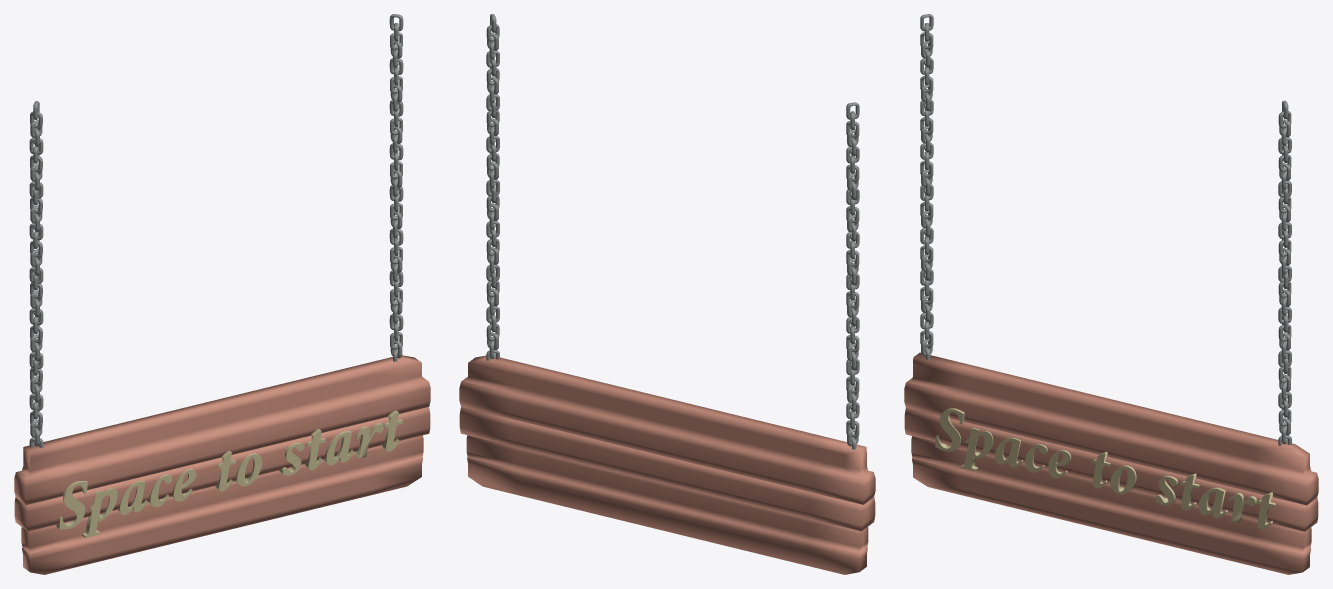
The model's file is StartSigne.fbx.
3 views of the same model, side by side, from view 1: azimuth 30°, elevation 25°; view 2: azimuth 150°, elevation 25°; view 3: azimuth 330°, elevation 25° (orthographic).
Visible parts, largest first — view 1: Cube.025, Cube.018; view 2: Cube.025, Cube.018; view 3: Cube.025, Cube.018.
Boxes of the visible parts, left/top/right/bottom form: Cube.025: left=14, top=355, right=430, bottom=574; Cube.018: left=29, top=14, right=403, bottom=448; Cube.025: left=459, top=355, right=875, bottom=574; Cube.018: left=486, top=14, right=859, bottom=449; Cube.025: left=904, top=352, right=1318, bottom=574; Cube.018: left=920, top=14, right=1291, bottom=445.
Bounding box in the file's own units: 457 × 508 × 29.61.
